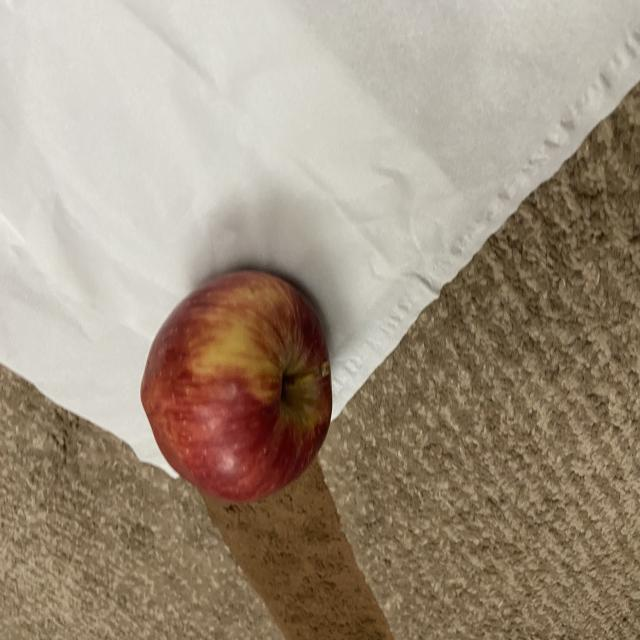apple: (138, 258, 342, 510)
